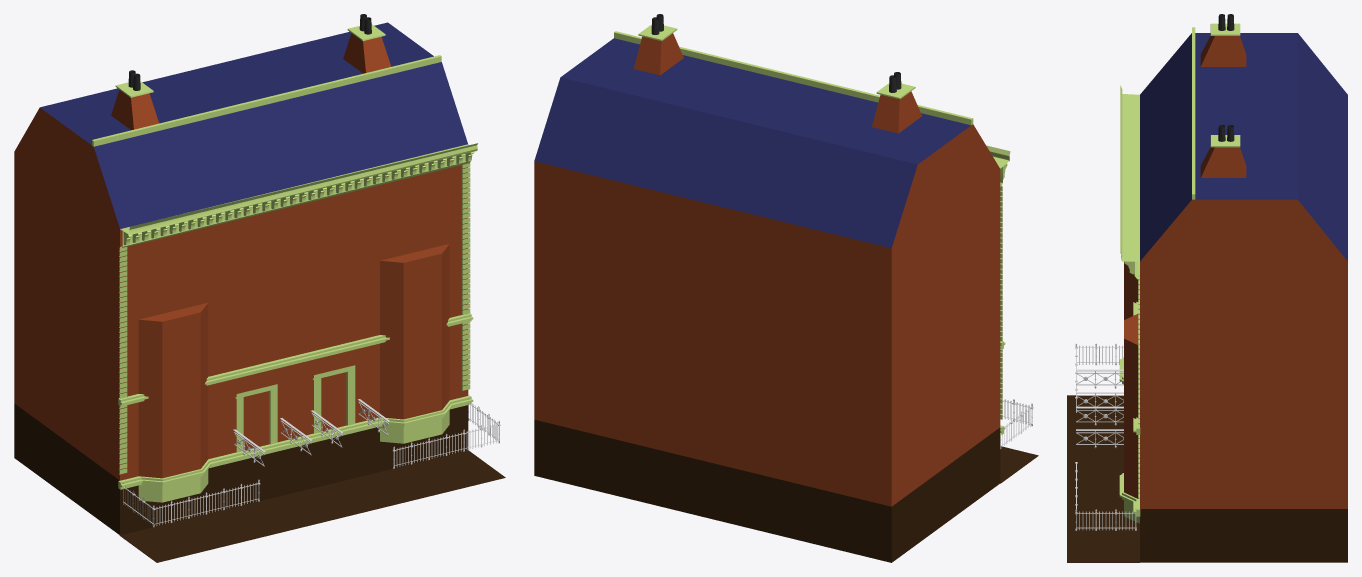
The model's file is Empty_Torben_SIDEHOUSEL.fbx.
3 views of the same model, side by side, from view 1: azimuth 30°, elevation 25°; view 2: azimuth 150°, elevation 25°; view 3: azimuth 270°, elevation 25° (orthographic). The views are drawn at different scales.
Parts seen in each view (by area): view 1: Building_Base, geo_LowerFloor.001, geo_Corner_Stones41.001, geo_Chimney_Base.001, geo_OrnamentSection2.001, geo_Rooftop_Edge_Top.003, pPlane56, geo_Rooftop_Edge_Top.002, pCube259.001, deurkubus2_J.001, pCube277.001, geo_Rooftop_Edge_Bottom.001 (+3 smaller); view 2: Building_Base, geo_Chimney_Base.001, geo_Rooftop_Edge_Top.002, geo_LowerFloor.001, pPlane56, geo_Corner_Stones41.001; view 3: Building_Base, geo_LowerFloor.001, geo_Chimney_Base.001, geo_Rooftop_Edge_Top.003, pPlane56, geo_UpperConntector2.003, geo_Rooftop_Edge_Top.002, geo_OrnamentSection2.001, geo_Corner_Stones41.001, geo_UpperConntector.005.
Boxes of the visible parts, x1,y1,x2,y2 form: Building_Base: (14,22,468,535); geo_LowerFloor.001: (119,450,505,562); geo_Corner_Stones41.001: (119,162,470,474); geo_Chimney_Base.001: (111,14,391,130); geo_OrnamentSection2.001: (136,400,453,502); geo_Rooftop_Edge_Top.003: (120,143,477,234); pPlane56: (122,399,500,527); geo_Rooftop_Edge_Top.002: (92,55,441,146); pCube259.001: (123,151,474,245); deurkubus2_J.001: (235,365,355,452); pCube277.001: (118,313,473,406); geo_Rooftop_Edge_Bottom.001: (120,154,470,247); Building_Base: (534,38,1000,562); geo_Chimney_Base.001: (633,14,921,133); geo_Rooftop_Edge_Top.002: (614,31,973,125); geo_LowerFloor.001: (1000,446,1038,483); pPlane56: (1000,399,1033,448); geo_Corner_Stones41.001: (1000,186,1002,419); Building_Base: (1124,33,1347,562); geo_LowerFloor.001: (1067,395,1139,562); geo_Chimney_Base.001: (1200,14,1246,177); geo_Rooftop_Edge_Top.003: (1120,85,1139,261); pPlane56: (1075,343,1136,530); geo_UpperConntector2.003: (1076,372,1123,444); geo_Rooftop_Edge_Top.002: (1192,27,1195,199); geo_OrnamentSection2.001: (1119,357,1139,523); geo_Corner_Stones41.001: (1138,275,1139,502); geo_UpperConntector.005: (1076,369,1123,430).
Size of the model in its own units: 833 by 943 by 587.
